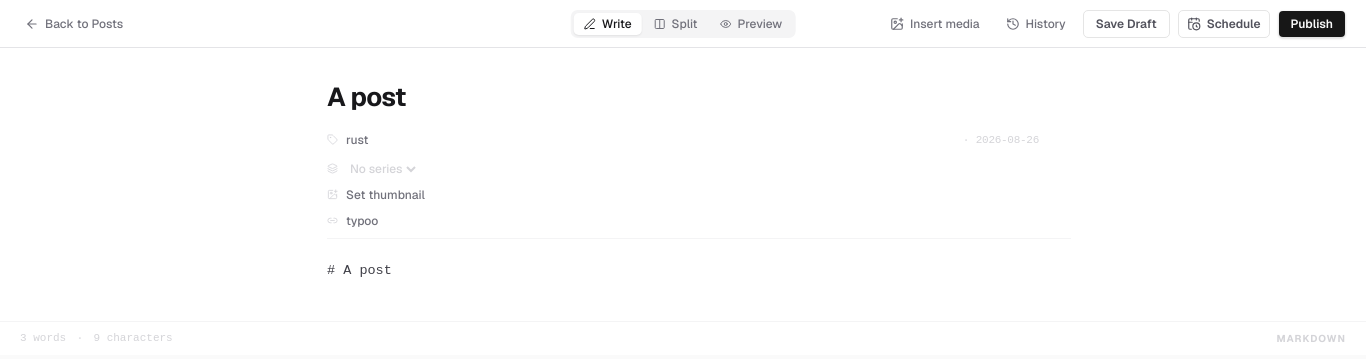
Test: the slug field › puts the real slug back when the rename is refused, and says why
The image size is (1366, 359).
Replace the text in the field named "Slug" with "something-else": (486, 221) [346,212,626,230]
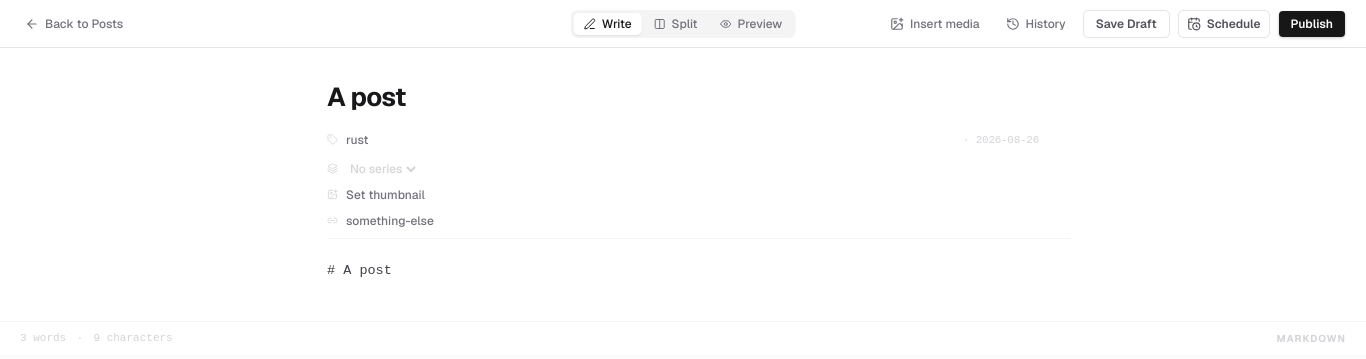
Press Tab
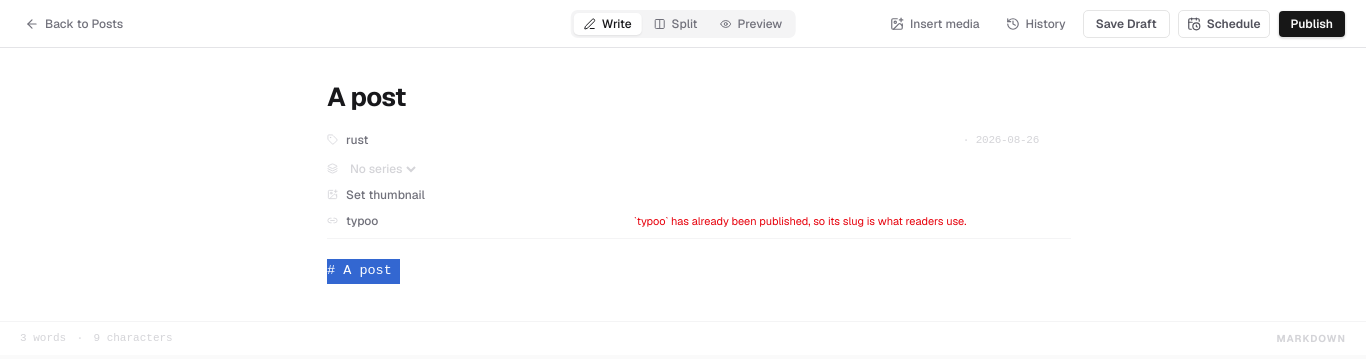
Expected: the text "already been published" is shown, [634,214,966,228]
Expected: the field named "Slug" holds "typoo", [346,212,626,230]
